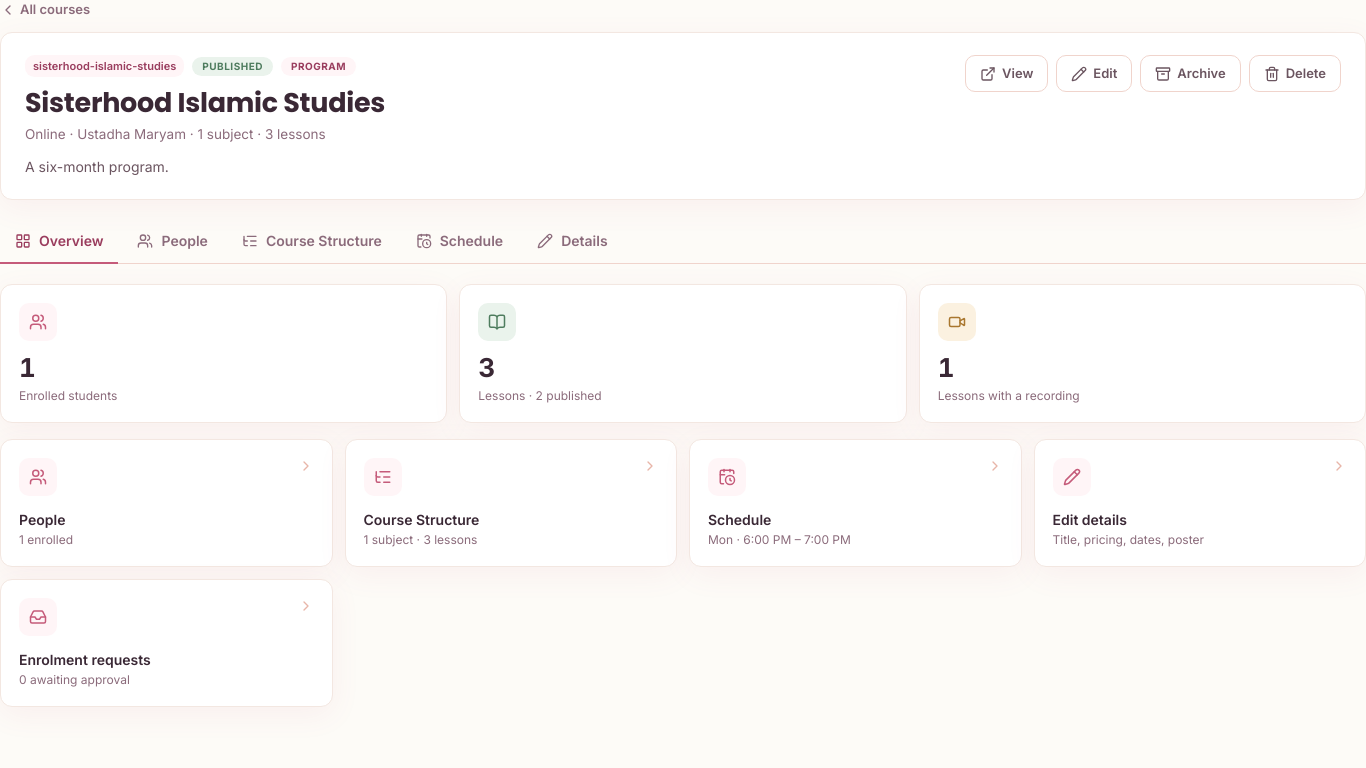
CourseWorkspace › moves to a tab from an Overview nav card
The image size is (1366, 768).
Click the button "Course Structure 1 subject · 3 lessons".
click(382, 477)  # box [344,438,677,566]
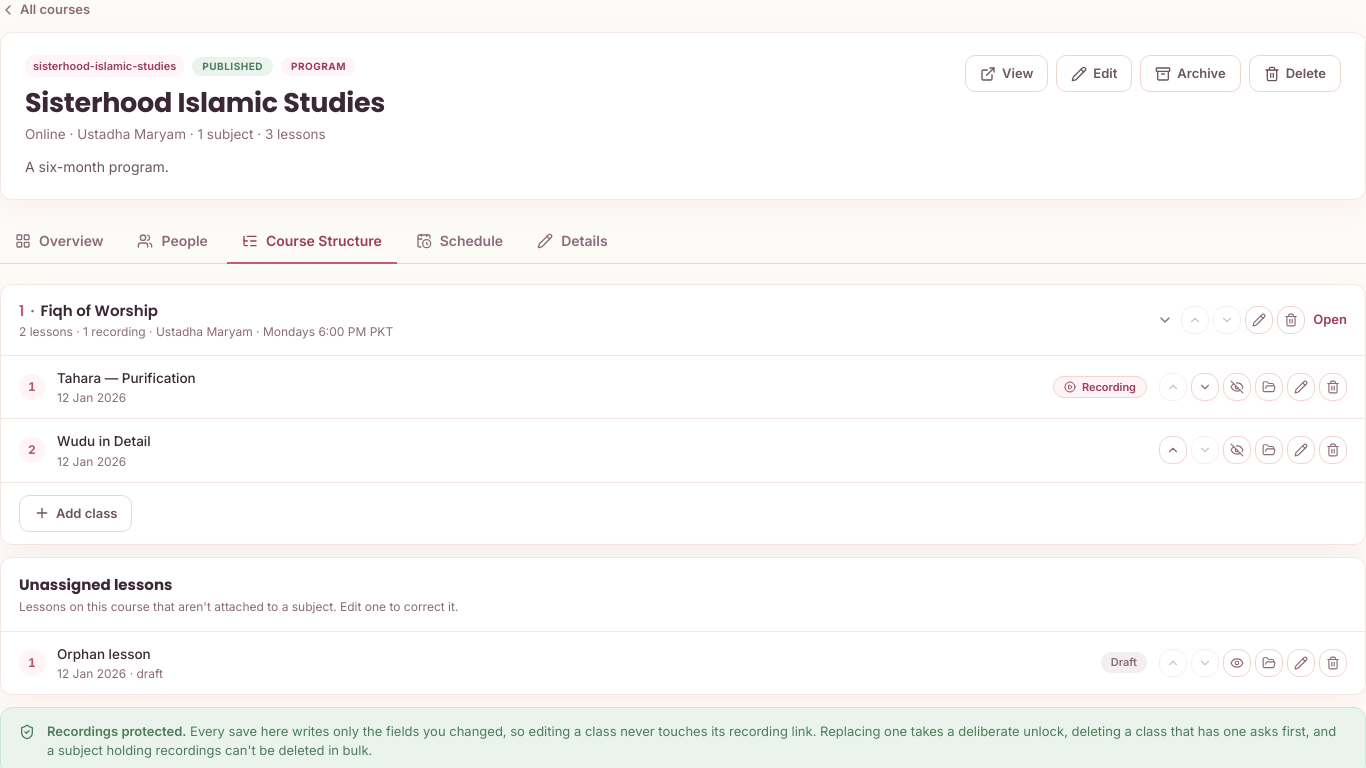
expect the text "Fiqh of Worship" is shown: met, box [40,300,158,320]
